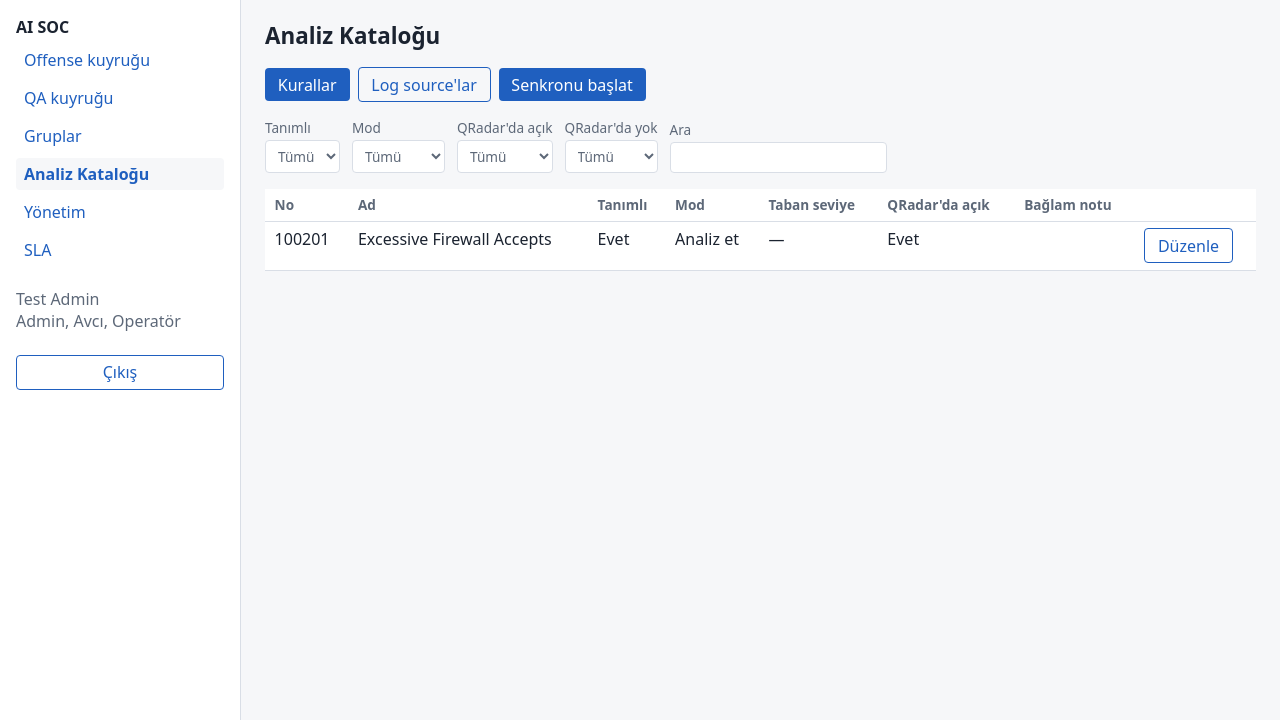
Test: catalog (criterion 8) › lets an admin edit a rule
Click the button "Düzenle". click: (1188, 246)
box: [1144,228,1233,263]
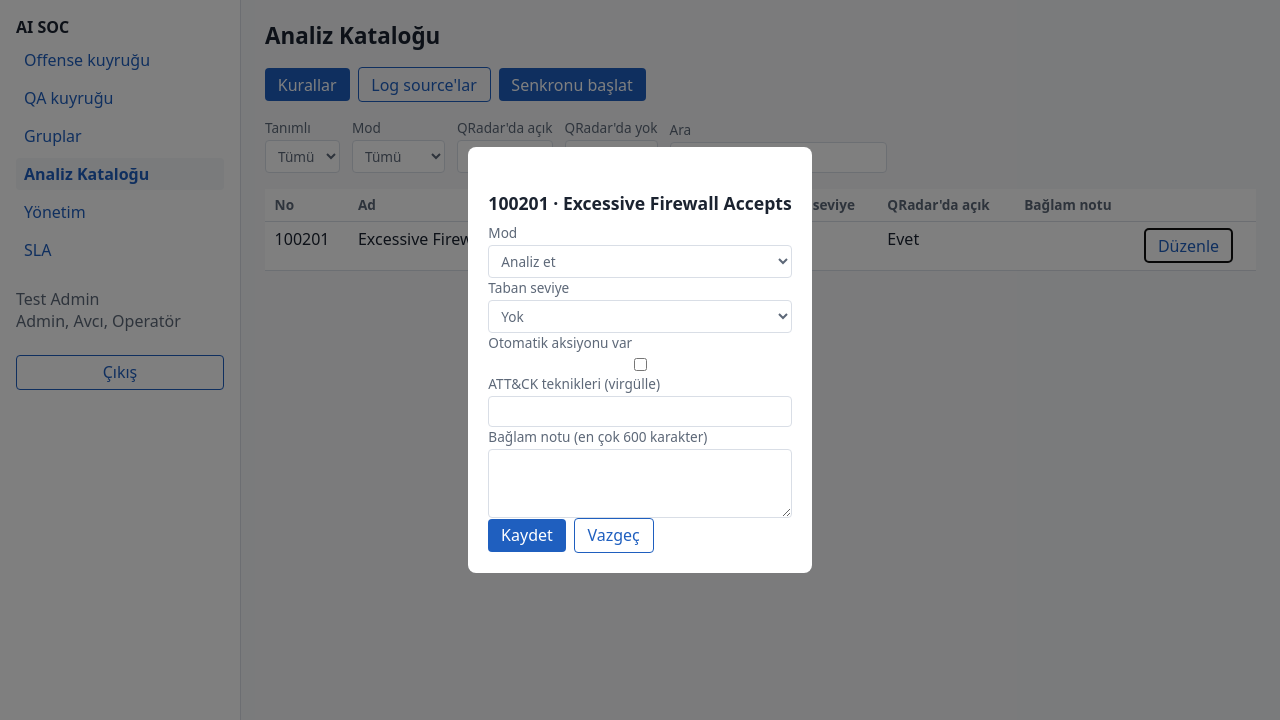
Select "Atla" in the dropdown labelled "Mod". click: (640, 262)
box: [488,245,792,278]
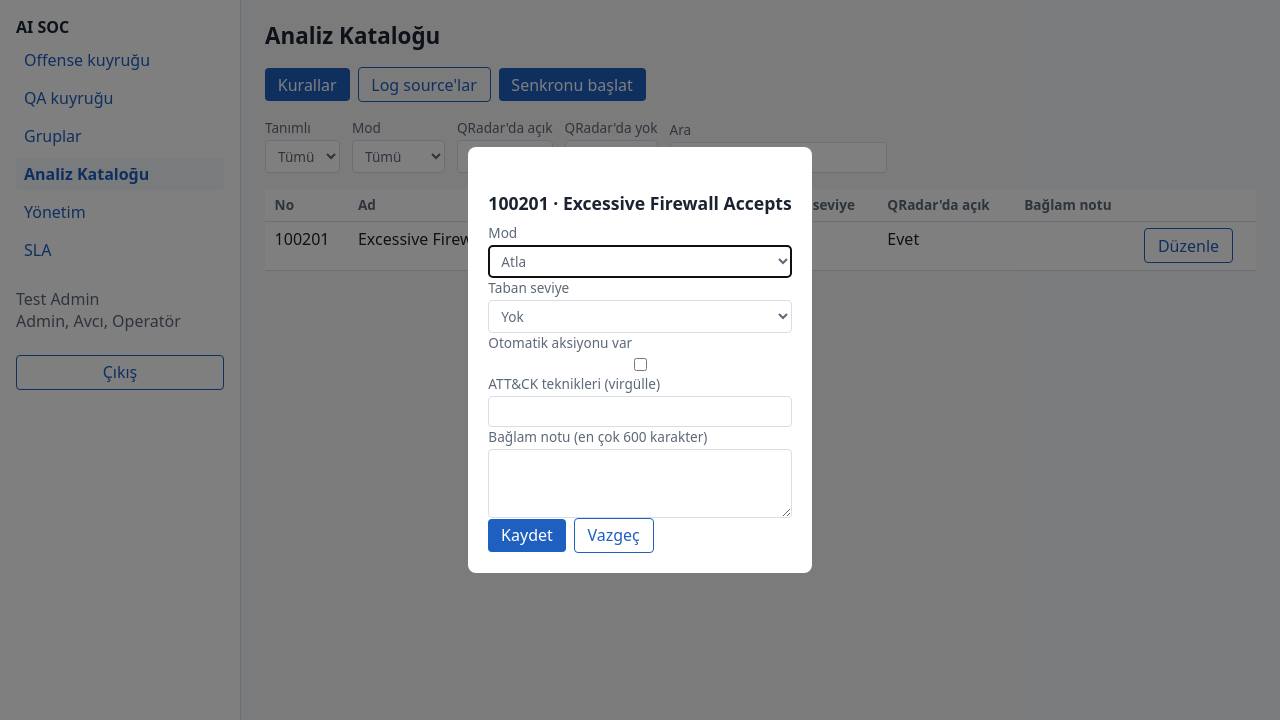
Select "Yüksek" in the dropdown labelled "Taban seviye". click: (640, 316)
box: [488,300,792,333]
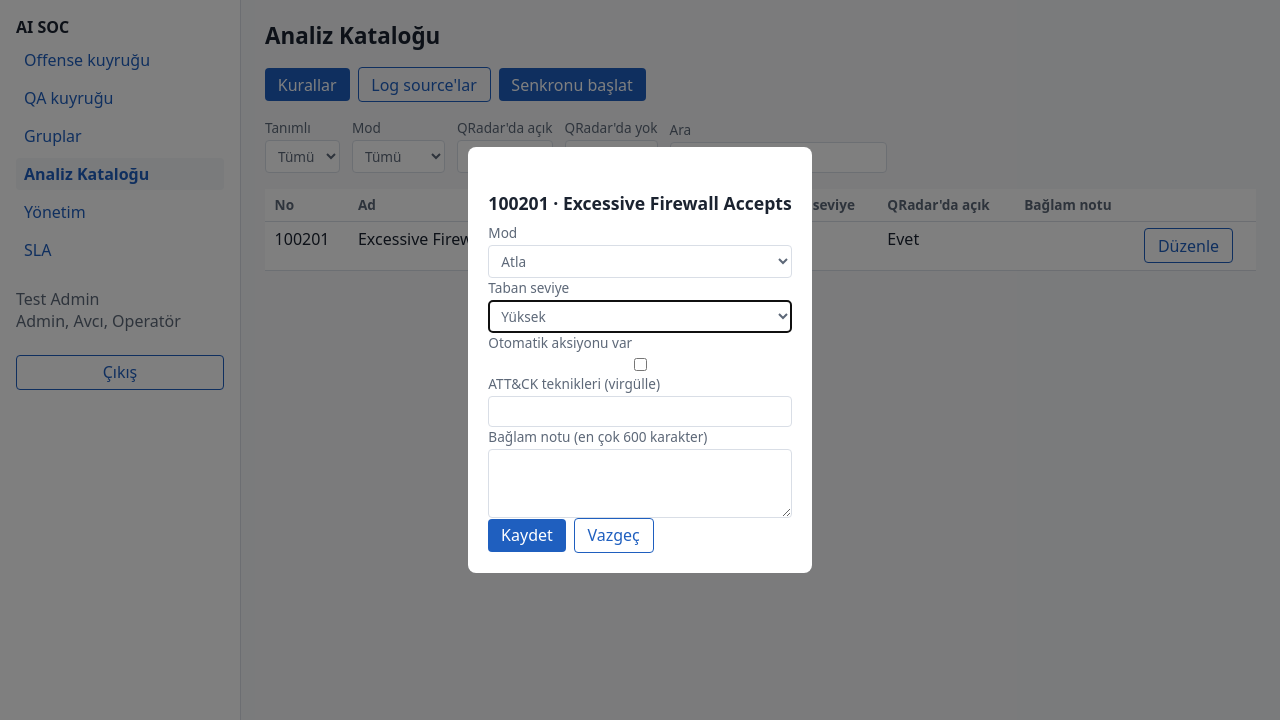
Type "T1059, T1021" into the field labelled "ATT&CK teknikleri (virgülle)". click: (640, 412)
box: [488,396,792,427]
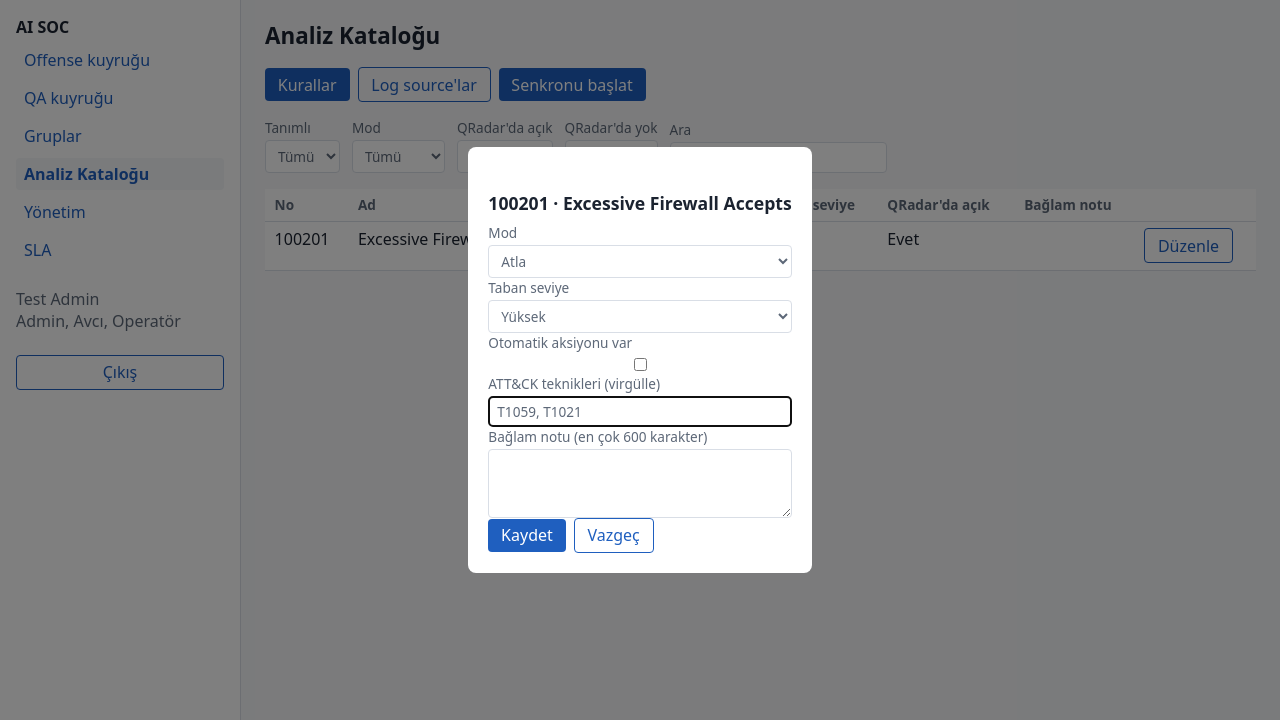
Click the button "Kaydet". click: (527, 535)
box: [488,519,566,552]
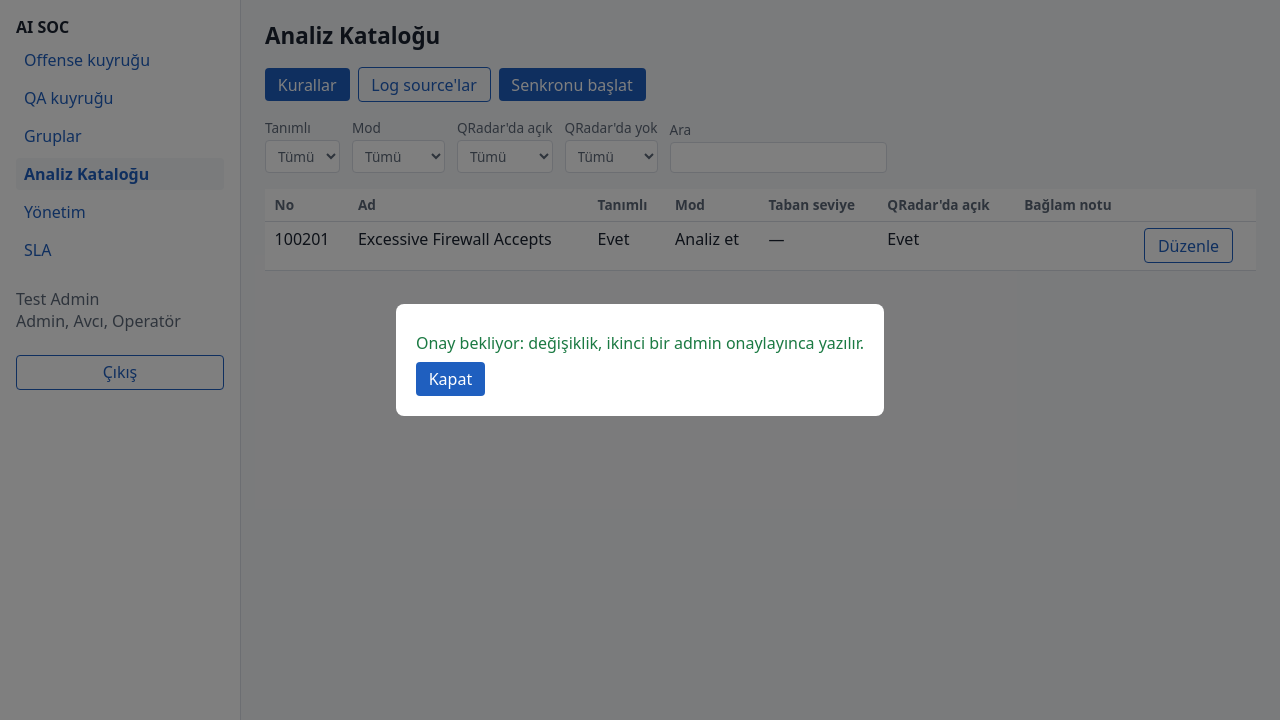
Expected: the text "Onay bekliyor: değişiklik, ikinci bir admin onaylayınca yazılır." is shown, [416,332,864,354]
Click the button "Kapat". click: (450, 379)
box: [416,362,485,396]
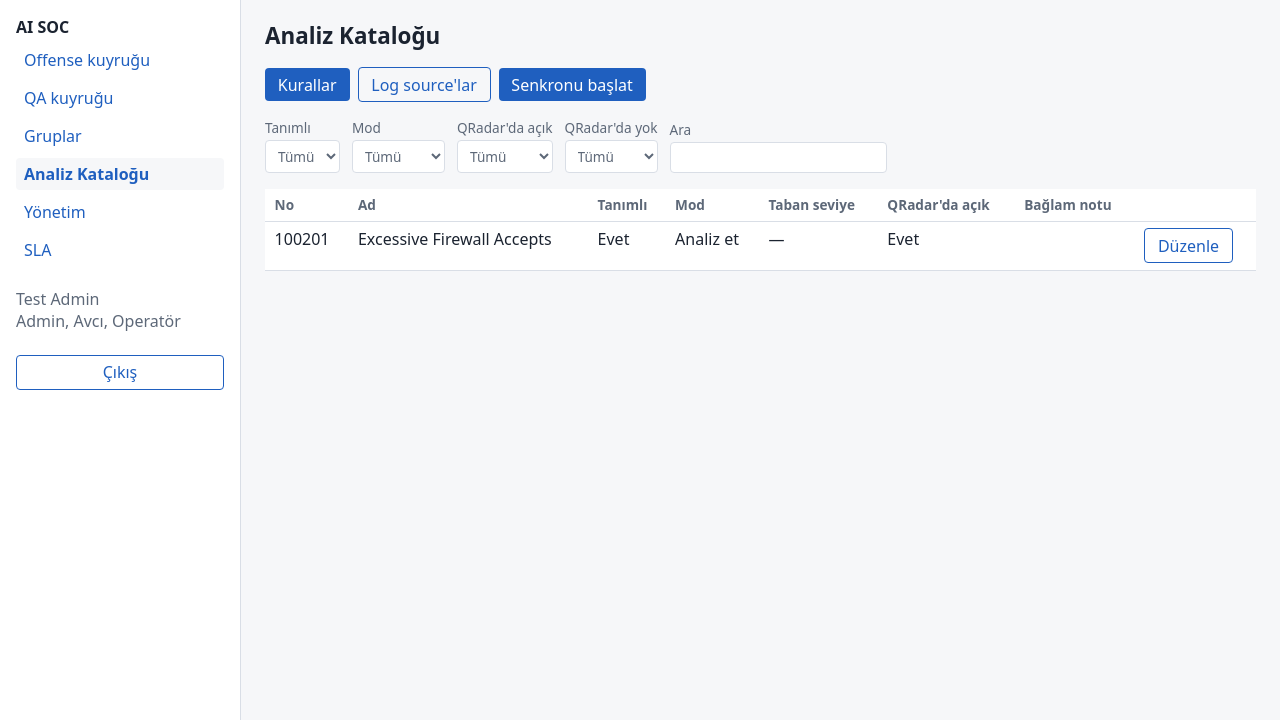
Expected: the dialog is gone
